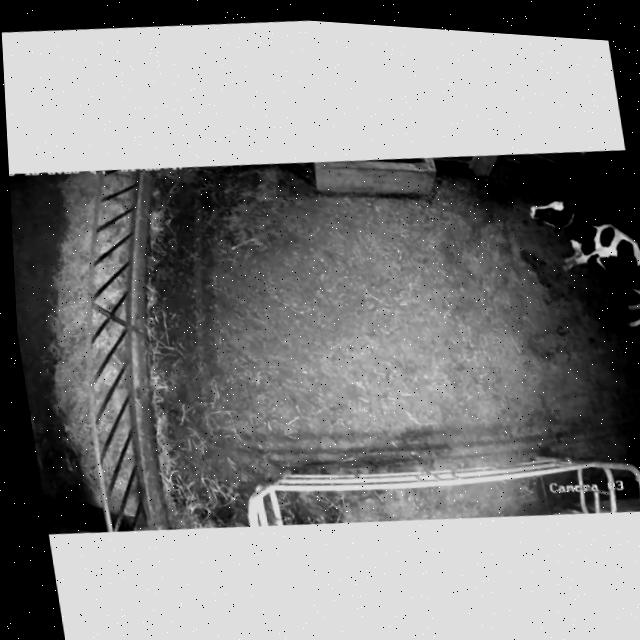stand: (499, 176, 640, 355)
